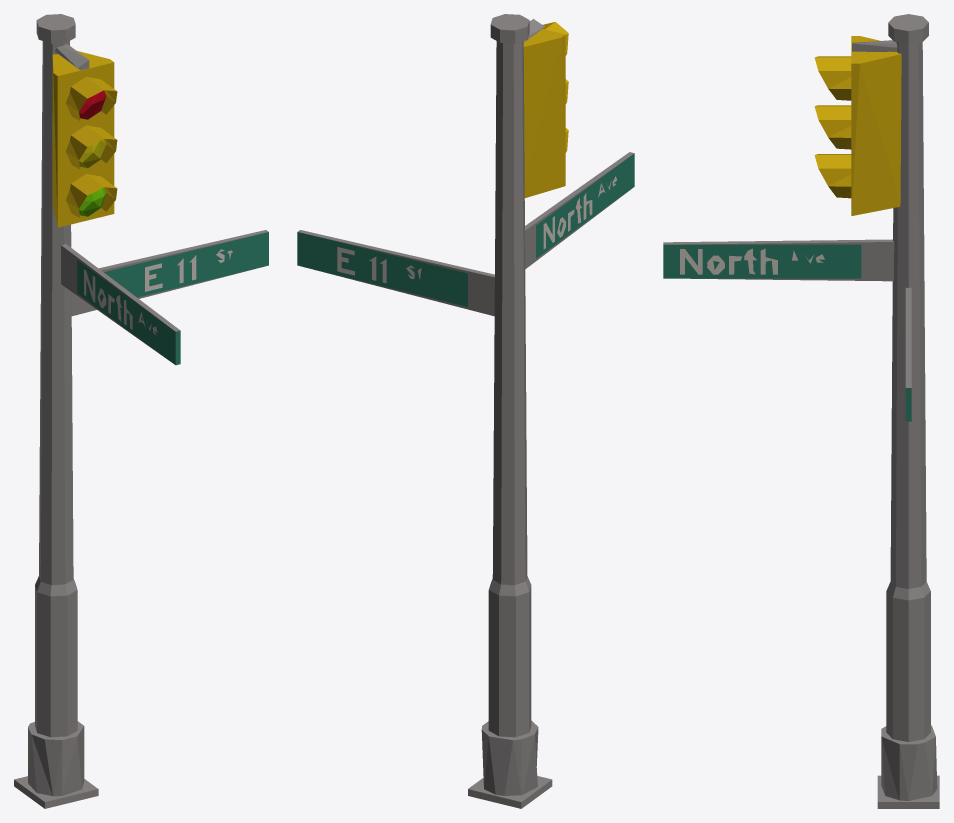
File: traffic_light_lod.glb
3 renders of one model, left to right at view 1: azimuth 30°, elevation 25°; view 2: azimuth 150°, elevation 25°; view 3: azimuth 270°, elevation 25°, orthographic.
Visible parts, largest first — view 1: TrafficLight_1; view 2: TrafficLight_1; view 3: TrafficLight_1.
Boxes of the visible parts, <box> form: TrafficLight_1: <box>14,14,268,808</box>; TrafficLight_1: <box>297,14,634,808</box>; TrafficLight_1: <box>663,14,939,808</box>.
Size of the model in its own units: 1.51 by 4.66 by 1.51.
Materials: 1 (1 with a texture image).
